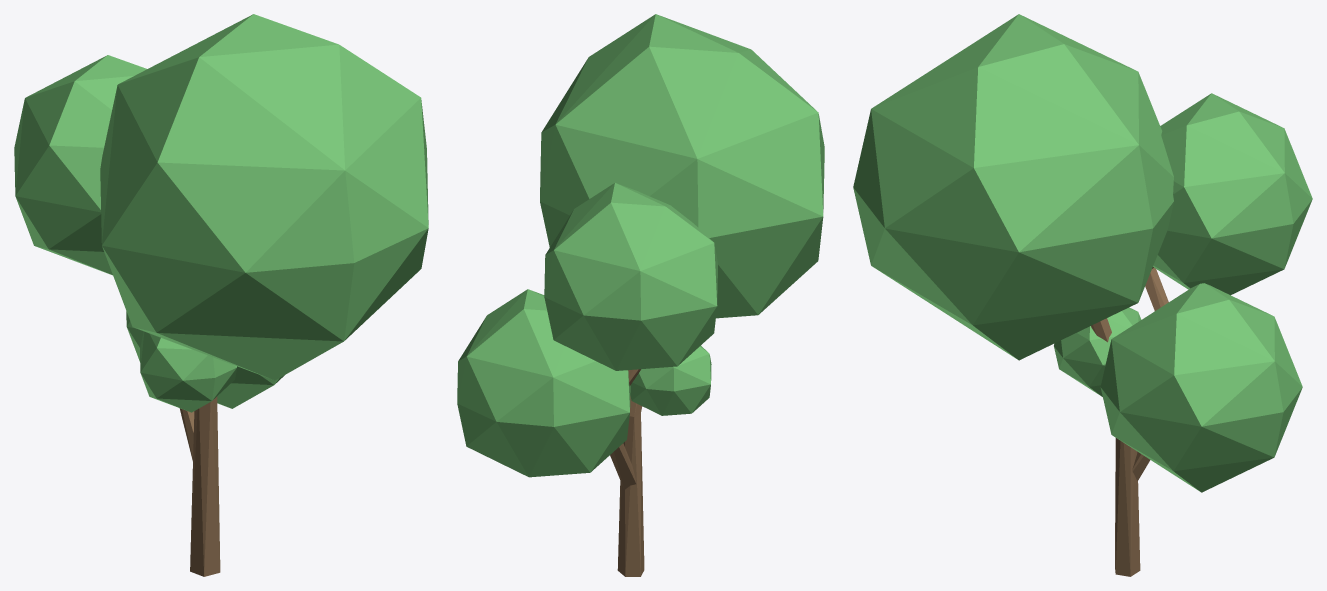
File: bush2.fbx
3 views of the same model, side by side, from view 1: azimuth 30°, elevation 25°; view 2: azimuth 150°, elevation 25°; view 3: azimuth 270°, elevation 25° (orthographic). The views are drawn at different scales.
Parts seen in each view (by area): view 1: Icosphere.003, Cylinder.001; view 2: Icosphere.003, Cylinder.001; view 3: Icosphere.003, Cylinder.001.
Boxes of the visible parts, left/top/right/bottom form: Icosphere.003: left=14, top=14, right=428, bottom=412; Cylinder.001: left=179, top=396, right=220, bottom=576; Icosphere.003: left=457, top=14, right=824, bottom=477; Cylinder.001: left=610, top=369, right=644, bottom=576; Icosphere.003: left=853, top=14, right=1312, bottom=492; Cylinder.001: left=1091, top=267, right=1168, bottom=576.
Bounding box in the file's own units: 209 × 355 × 277.
